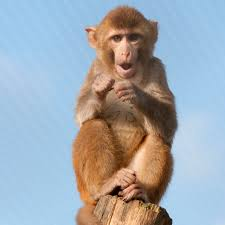monkey: (25, 10, 204, 212)
